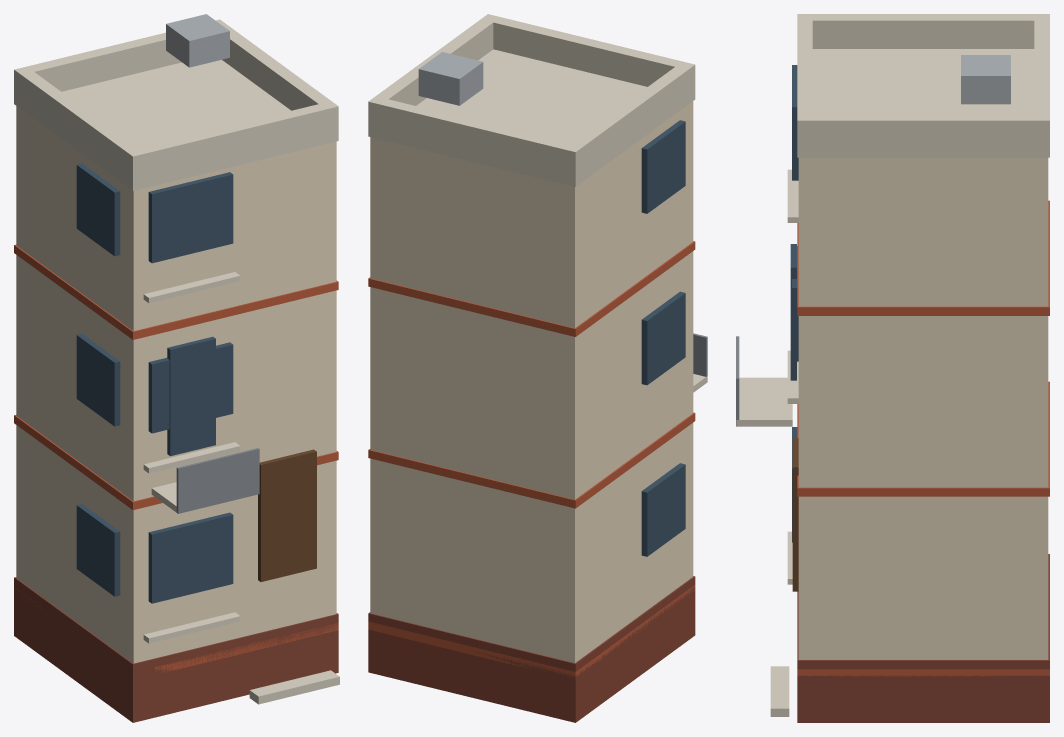
Rendered from building.apartment-rowhouse.glb.
3 renders of one model, left to right at view 1: azimuth 30°, elevation 25°; view 2: azimuth 150°, elevation 25°; view 3: azimuth 270°, elevation 25°, orthographic. The views are drawn at different scales.
Visible parts, largest first — view 1: building.apartment-rowhouse; view 2: building.apartment-rowhouse; view 3: building.apartment-rowhouse.
Part boxes in pixels (bbox=[...]): building.apartment-rowhouse: bbox=[14, 14, 339, 722]; building.apartment-rowhouse: bbox=[368, 14, 707, 722]; building.apartment-rowhouse: bbox=[736, 14, 1049, 722].
Size of the model in its own units: 4.14 by 11.15 by 5.03.
